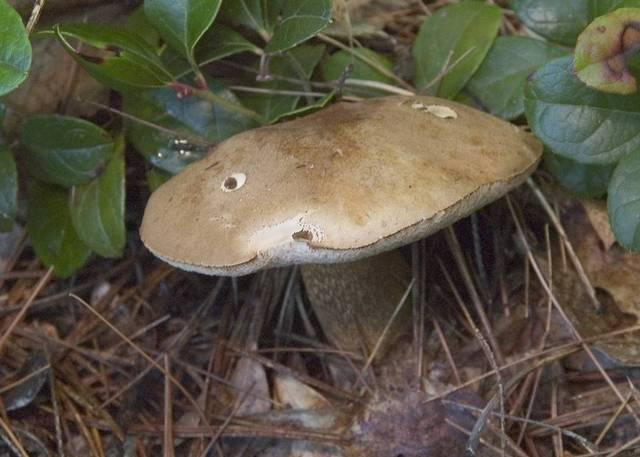Non-edible Mushroom: (137, 91, 544, 382)
